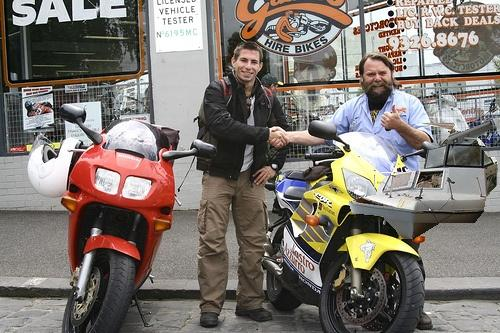tampered: (349, 122, 498, 239)
